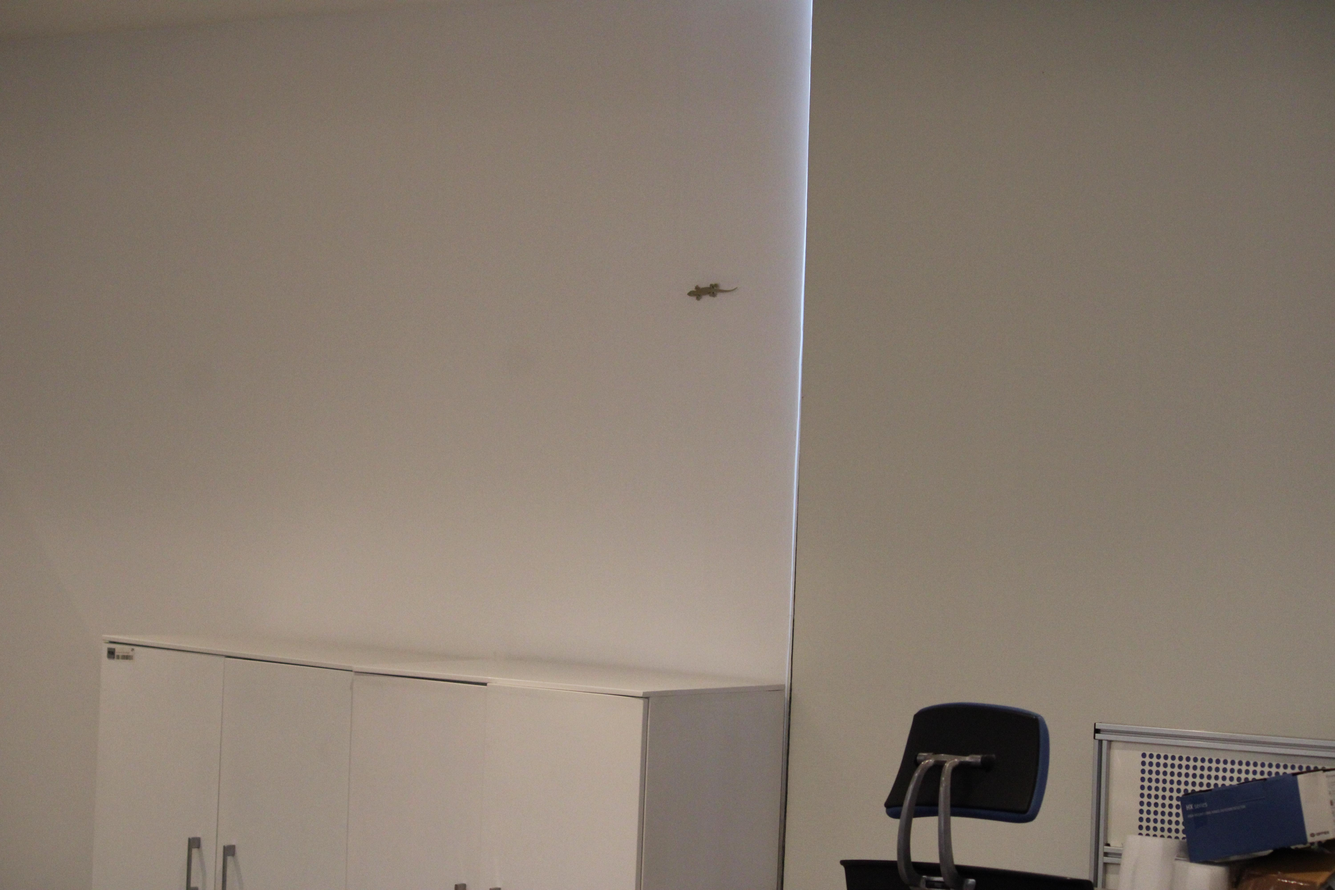lizard: (675, 274, 748, 317)
